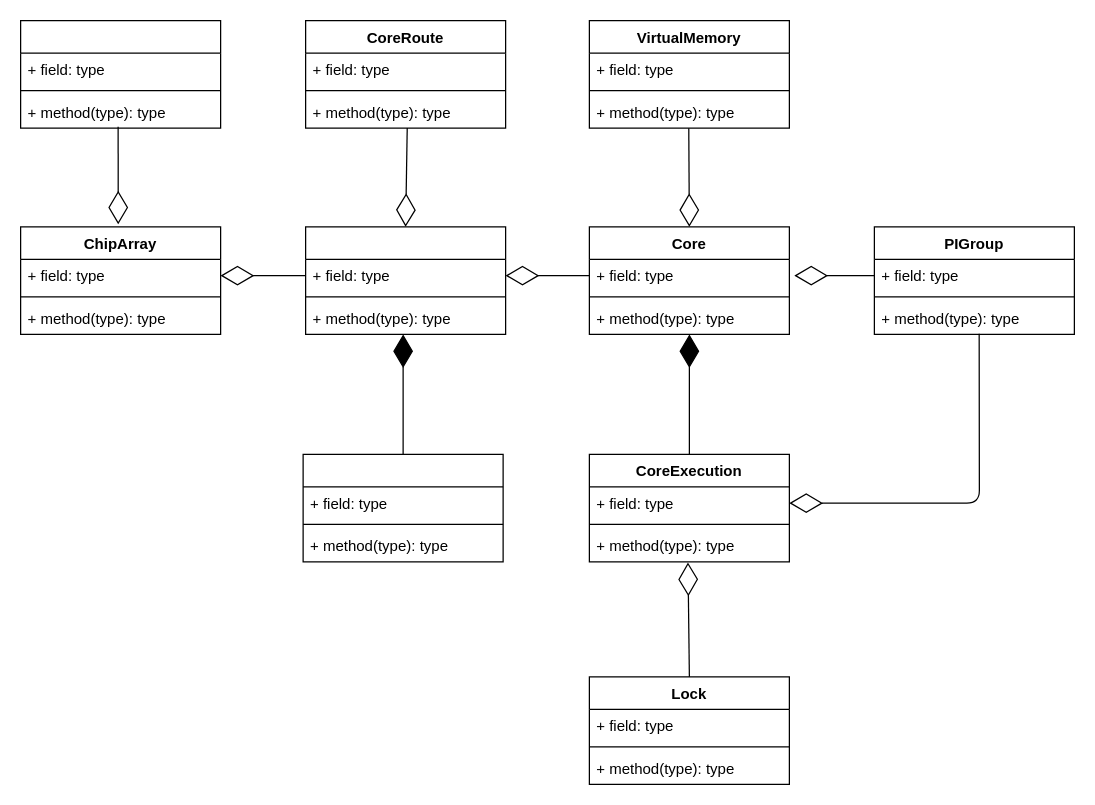
Some shapes in this 1095 by 805 pixel diagram are drawn without their labels. The shapes that lost their labels are listed below. From the top down, each one's box as (x1, y1, x2, y2) in pixels, then its label:
(19, 19, 221, 128): ChipRoute
(304, 226, 506, 334): Chip
(302, 453, 503, 562): ChipExecution
